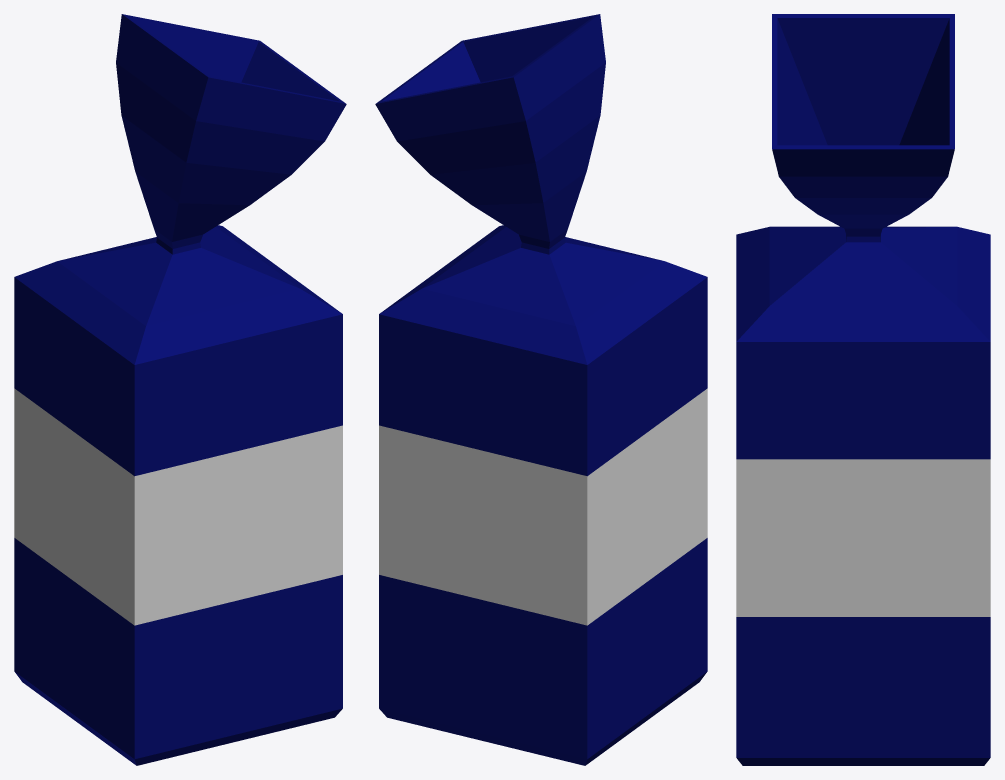
Rendered from bread_packet.fbx.
3 renders of one model, left to right at view 1: azimuth 30°, elevation 25°; view 2: azimuth 150°, elevation 25°; view 3: azimuth 270°, elevation 25°, orthographic. The views are drawn at different scales.
Parts seen in each view (by area): view 1: bread_packet; view 2: bread_packet; view 3: bread_packet.
Boxes of the visible parts, x1,y1,x2,y2 form: bread_packet: (14,14,346,765); bread_packet: (375,14,707,765); bread_packet: (736,14,990,765).
Size of the model in its own units: 0.2938 by 0.8058 by 0.2674.
